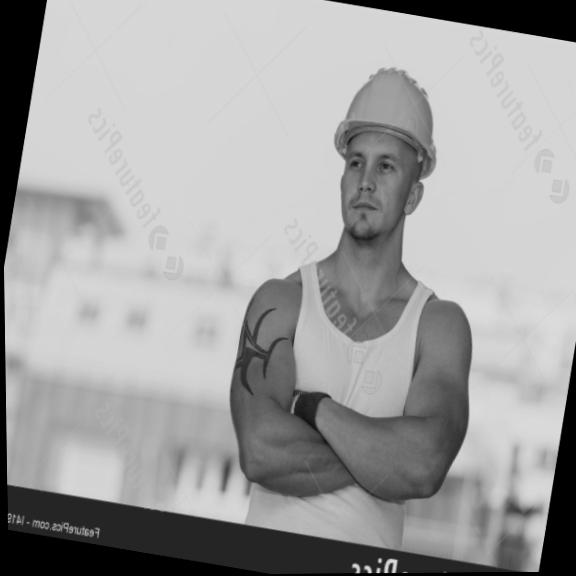no_safety_vest: (205, 237, 488, 544)
